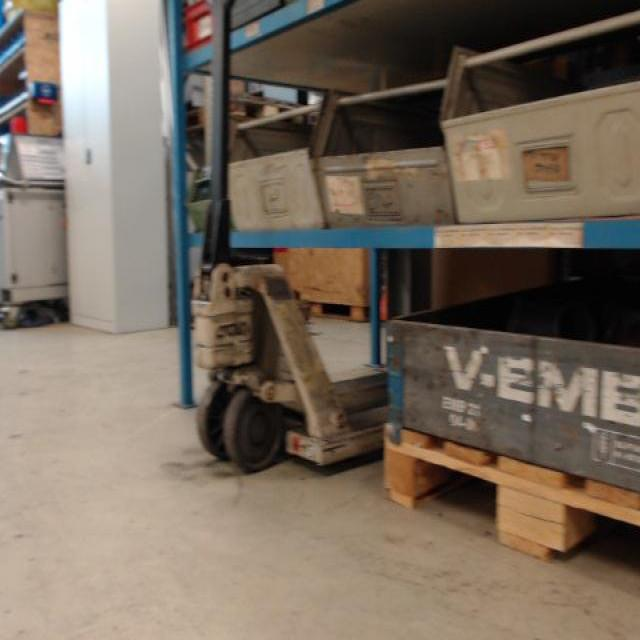pallet: (382, 421, 640, 571), (181, 93, 304, 137), (305, 300, 373, 325)
pallet_truck: (182, 0, 403, 489)
